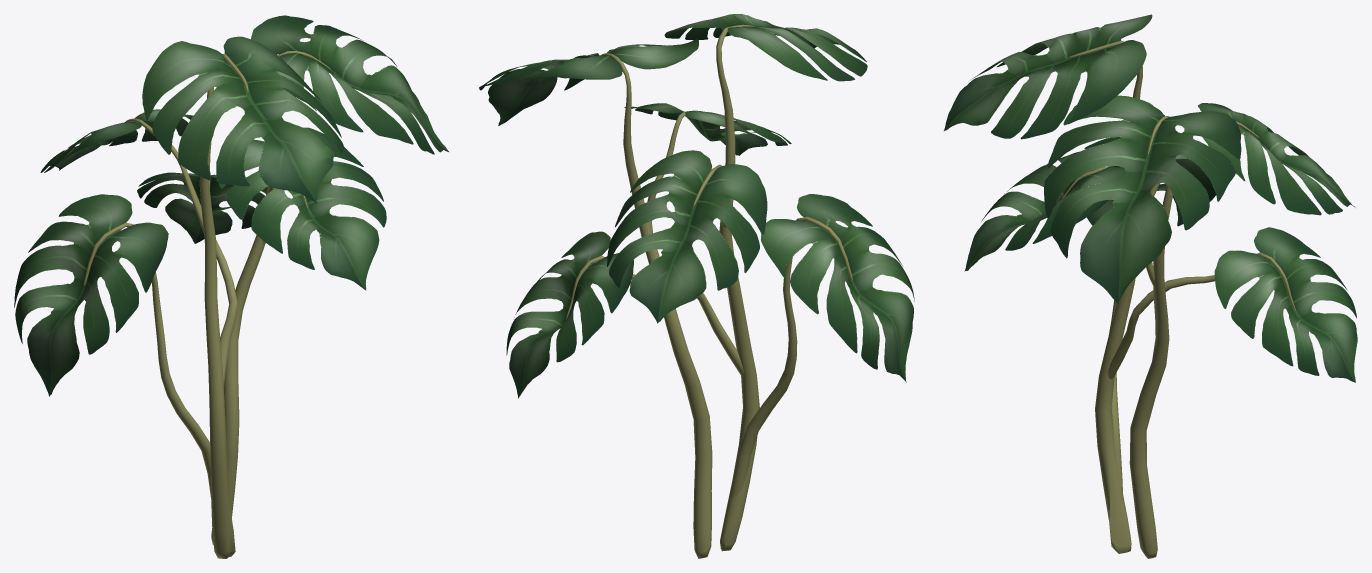
File: plant_02.fbx
3 renders of one model, left to right at view 1: azimuth 30°, elevation 25°; view 2: azimuth 150°, elevation 25°; view 3: azimuth 270°, elevation 25°, orthographic. The views are drawn at different scales.
Parts seen in each view (by area): view 1: leaf_02, leaf_07, leaves_02_base, leaf_05, leaf_03, leaf_06, leaf_04; view 2: leaf_04, leaves_02_base, leaf_07, leaf_06, leaf_03, leaf_02, leaf_05; view 3: leaf_03, leaf_02, leaves_02_base, leaf_06, leaf_04, leaf_05, leaf_07.
Part boxes in pixels (x1,y1,x2,y2): leaf_02: (142,36,343,203); leaf_07: (14,194,168,396); leaves_02_base: (83,51,330,558); leaf_05: (219,127,386,290); leaf_03: (251,15,448,154); leaf_06: (137,172,266,243); leaf_04: (40,109,193,172); leaf_04: (607,150,767,323); leaves_02_base: (566,24,852,558); leaf_07: (761,194,914,382); leaf_06: (506,231,633,398); leaf_03: (479,39,698,125); leaf_02: (664,14,867,81); leaf_05: (624,103,791,155); leaf_03: (1044,95,1241,303); leaf_02: (944,14,1152,139); leaves_02_base: (1062,40,1296,558); leaf_06: (1214,227,1357,382); leaf_04: (1198,103,1355,215); leaf_05: (964,137,1125,271); leaf_07: (1077,155,1216,226).
Size of the model in its own units: 1.59 by 1.96 by 1.42.
